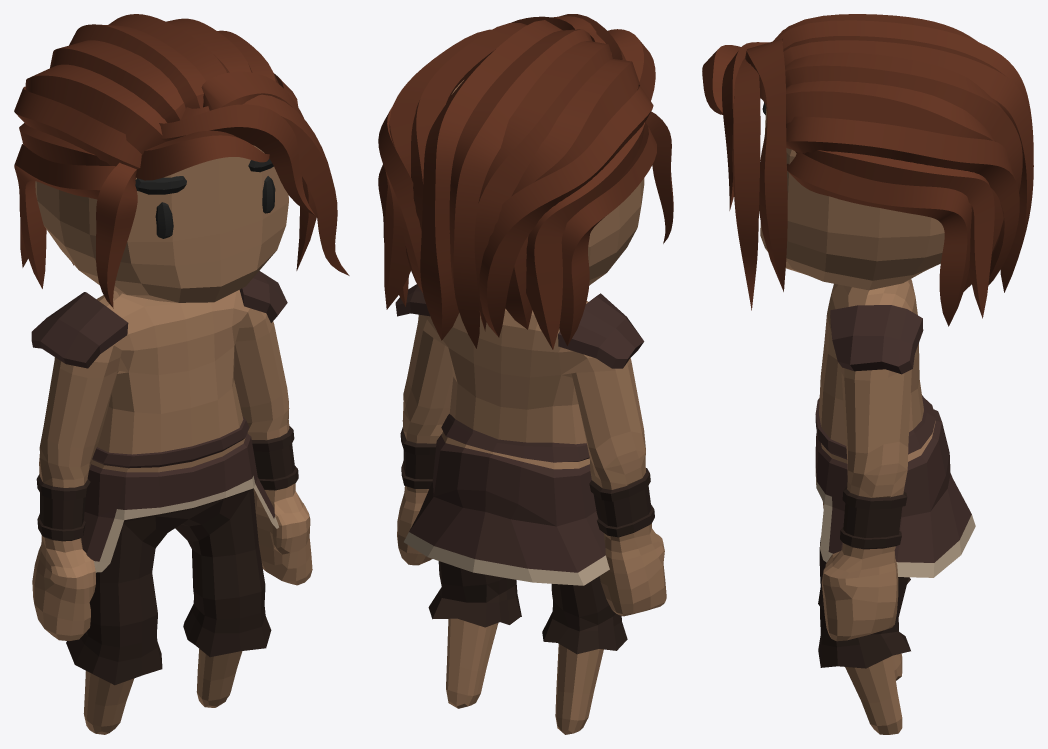
Rendered from Viking.glb.
The picture shows the model from 3 angles, left to right: view 1: azimuth 30°, elevation 25°; view 2: azimuth 150°, elevation 25°; view 3: azimuth 270°, elevation 25°; orthographic projection. The views are drawn at different scales.
Visible parts, largest first — view 1: Body_Cube.004; view 2: Body_Cube.004; view 3: Body_Cube.004.
Boxes of the visible parts, box(x1,y1,x2,y2) form: Body_Cube.004: box(14, 14, 349, 734); Body_Cube.004: box(378, 14, 673, 734); Body_Cube.004: box(702, 14, 1033, 734).
Size of the model in its own units: 1.29 by 3.17 by 1.41.
